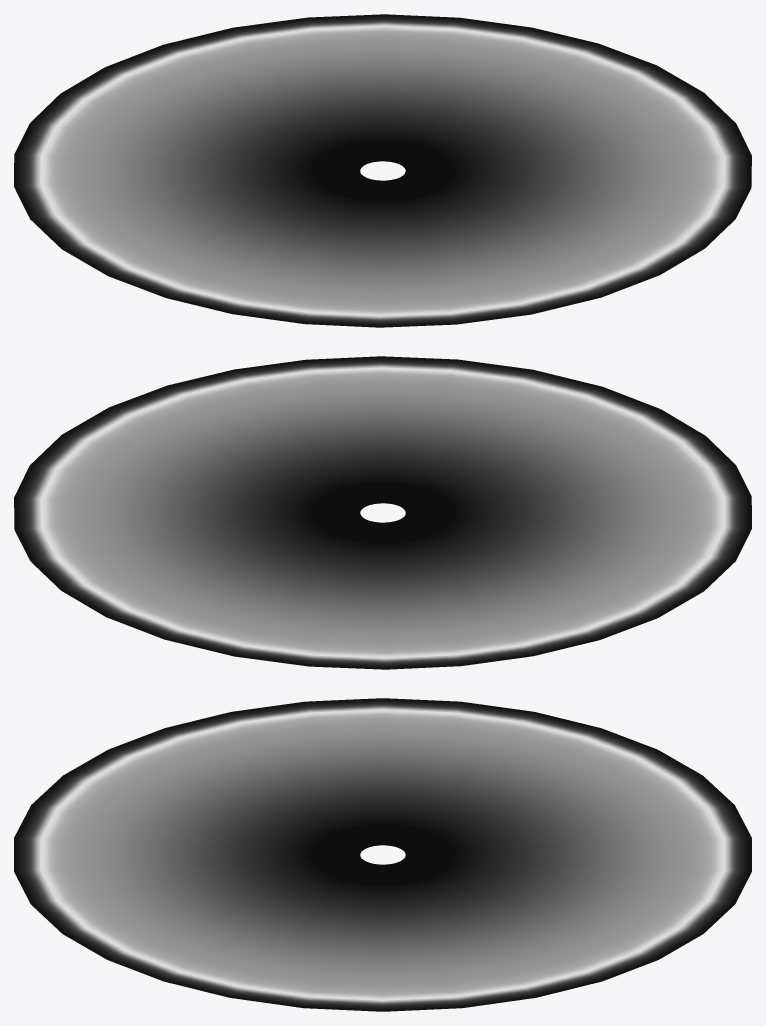
File: Ef_Ring_02.FBX
3 renders of one model, top to bottom at view 1: azimuth 30°, elevation 25°; view 2: azimuth 150°, elevation 25°; view 3: azimuth 270°, elevation 25°, orthographic.
Visible parts, largest first — view 1: Ef_RIng_02; view 2: Ef_RIng_02; view 3: Ef_RIng_02.
Part boxes in pixels (box(x1,y1,x2,y2)): Ef_RIng_02: box(14, 14, 751, 327); Ef_RIng_02: box(14, 356, 751, 669); Ef_RIng_02: box(14, 698, 751, 1011).
Bounding box in the file's own units: 112 × 1.54e-12 × 111.
Materials: 1 (1 with a texture image).
